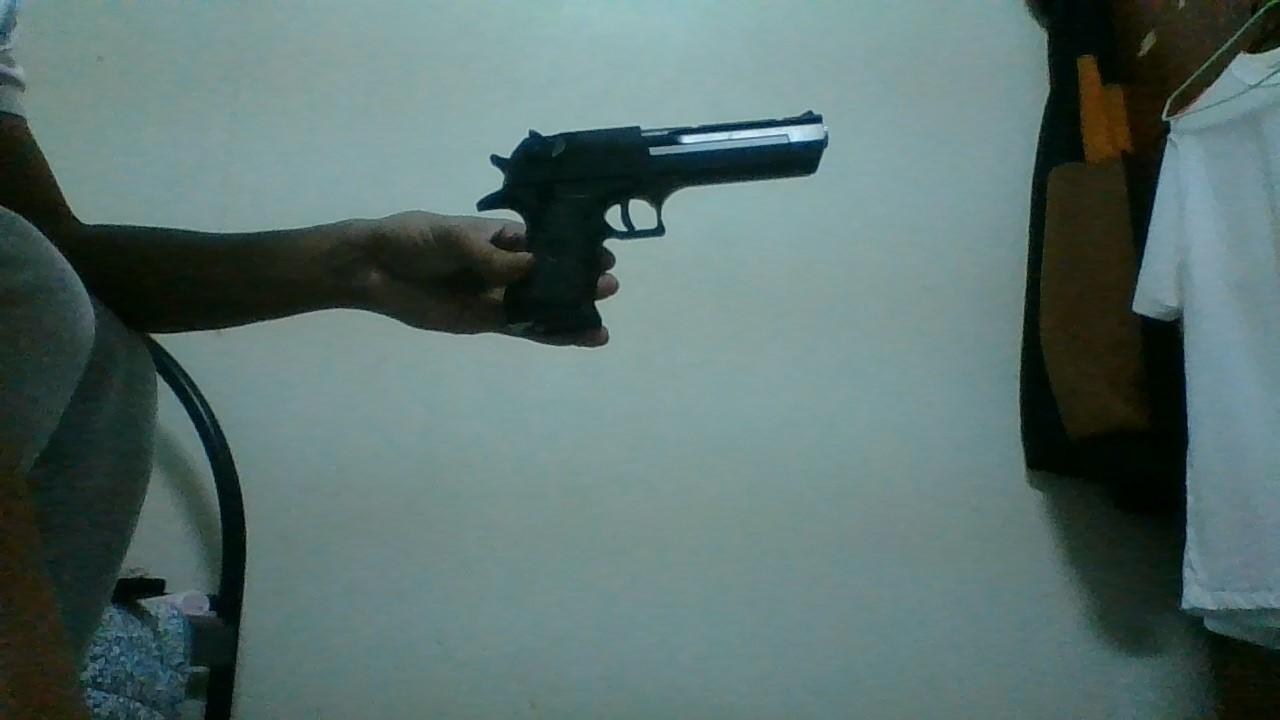weapon: (473, 107, 830, 332)
